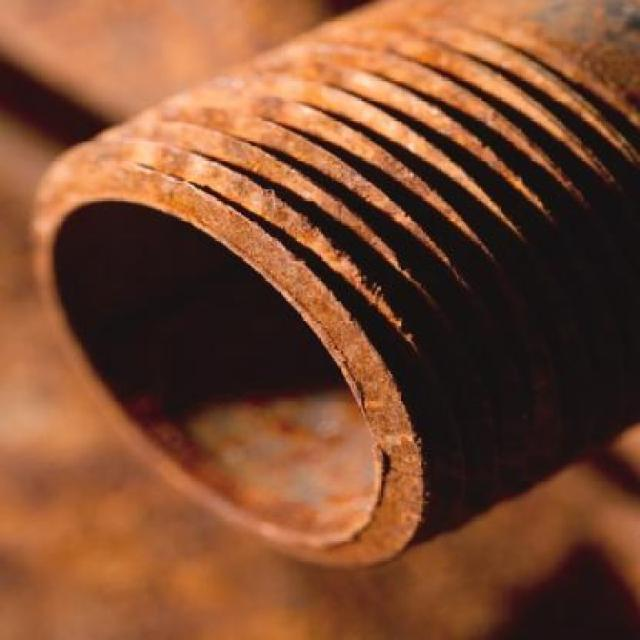corrosion: (37, 0, 640, 569)
